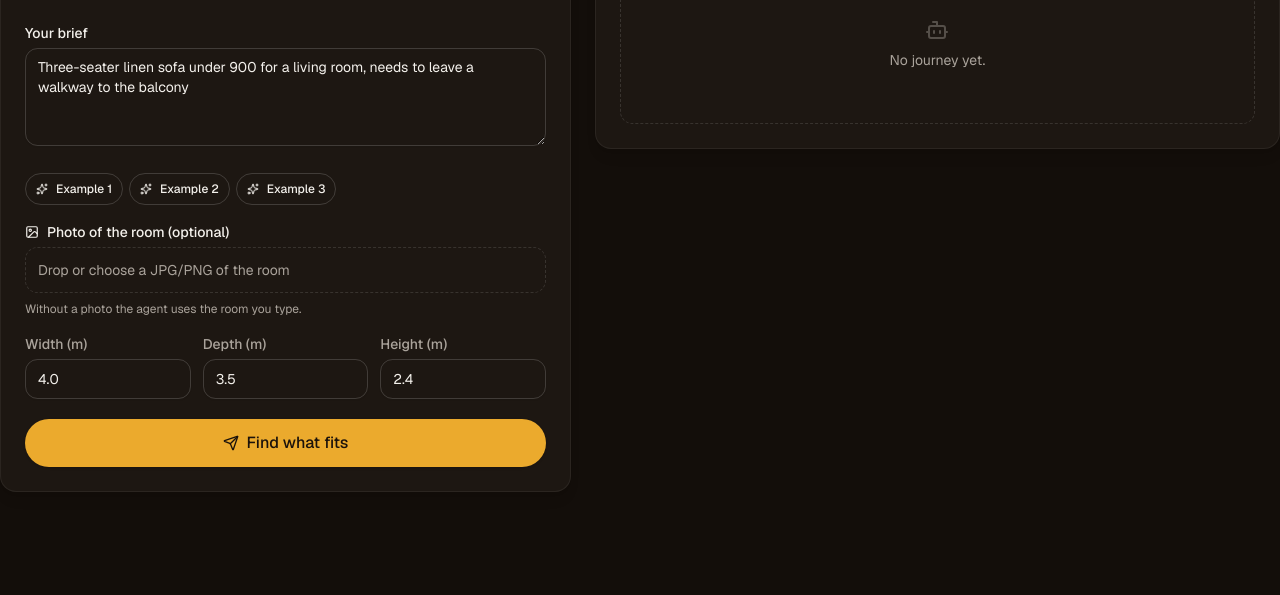
Test case: FitAgent › marks the recommendation and the evidence behind it
This screenshot has width=1280, height=595.
Click the button "Find what fits" at (285, 443), box [25, 419, 546, 467]
(page scrolled)
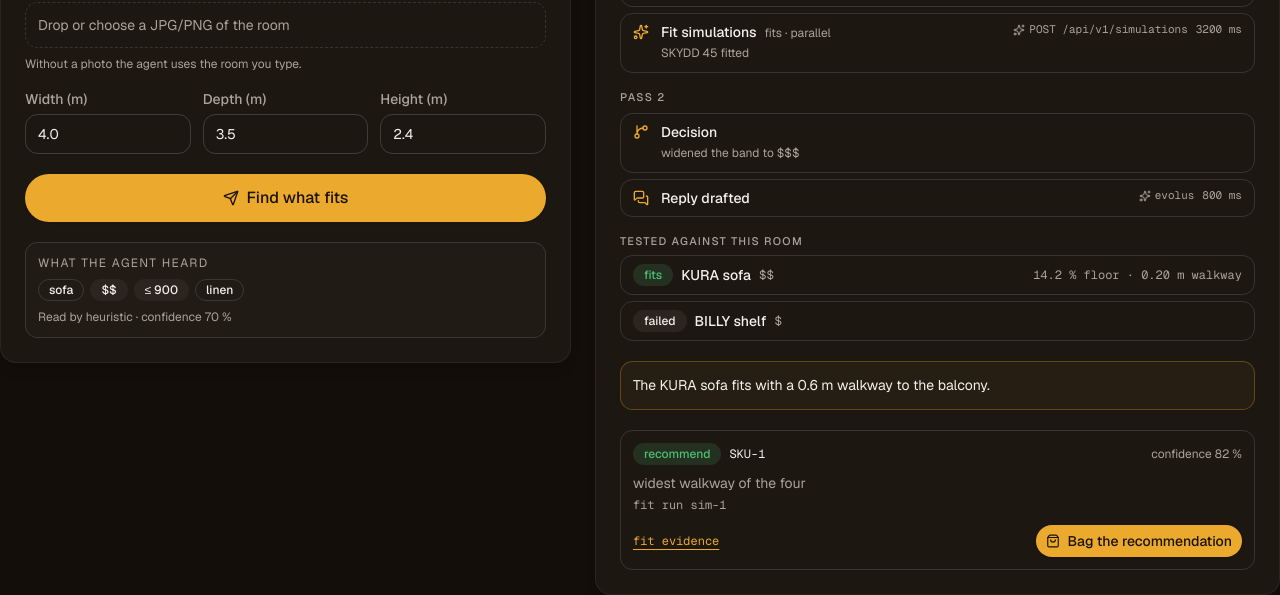
expect the text "fits" is shown: met, box [633, 264, 673, 286]
expect the text "recommend" is shown: met, box [633, 443, 721, 465]
expect the text "widest walkway of the four" is shown: met, box [633, 474, 806, 492]
